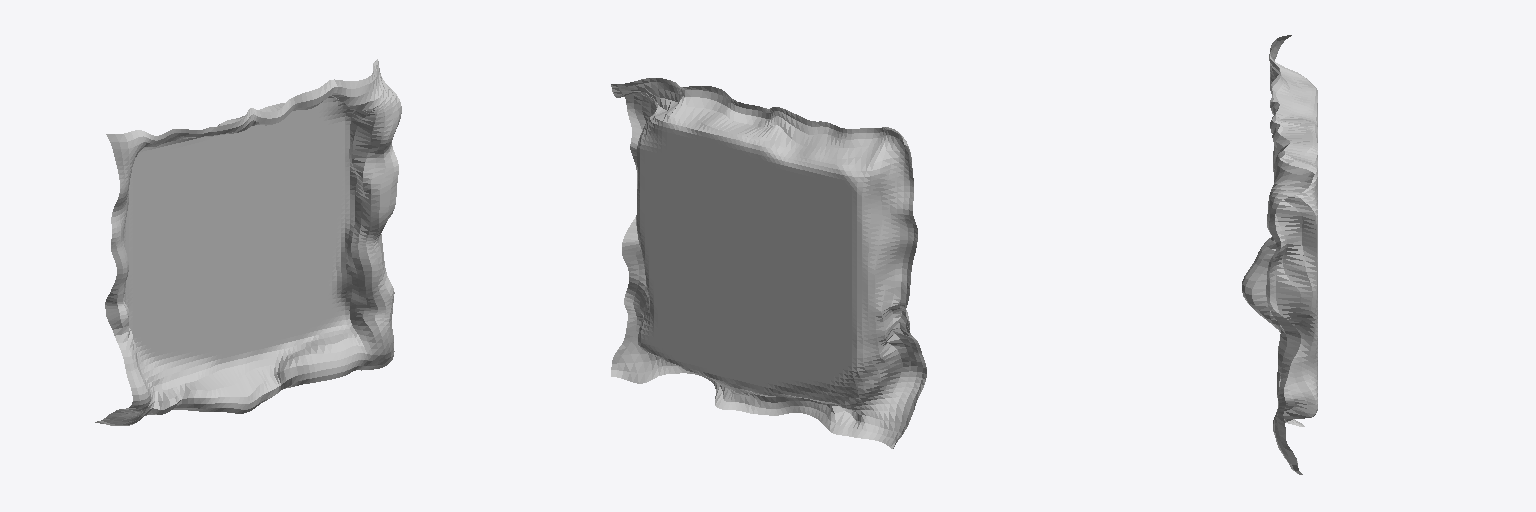
File: map.obj
The picture shows the model from 3 angles: view 1: azimuth 30°, elevation 25°; view 2: azimuth 150°, elevation 25°; view 3: azimuth 270°, elevation 25°; orthographic projection.
Visible parts, largest first — view 1: Plane; view 2: Plane; view 3: Plane.
Part boxes in pixels (bbox=[...]): Plane: bbox=[95, 59, 401, 425]; Plane: bbox=[611, 78, 926, 448]; Plane: bbox=[1242, 35, 1317, 474].
Bounding box in the file's own units: 41.75 × 42.4 × 9.44.